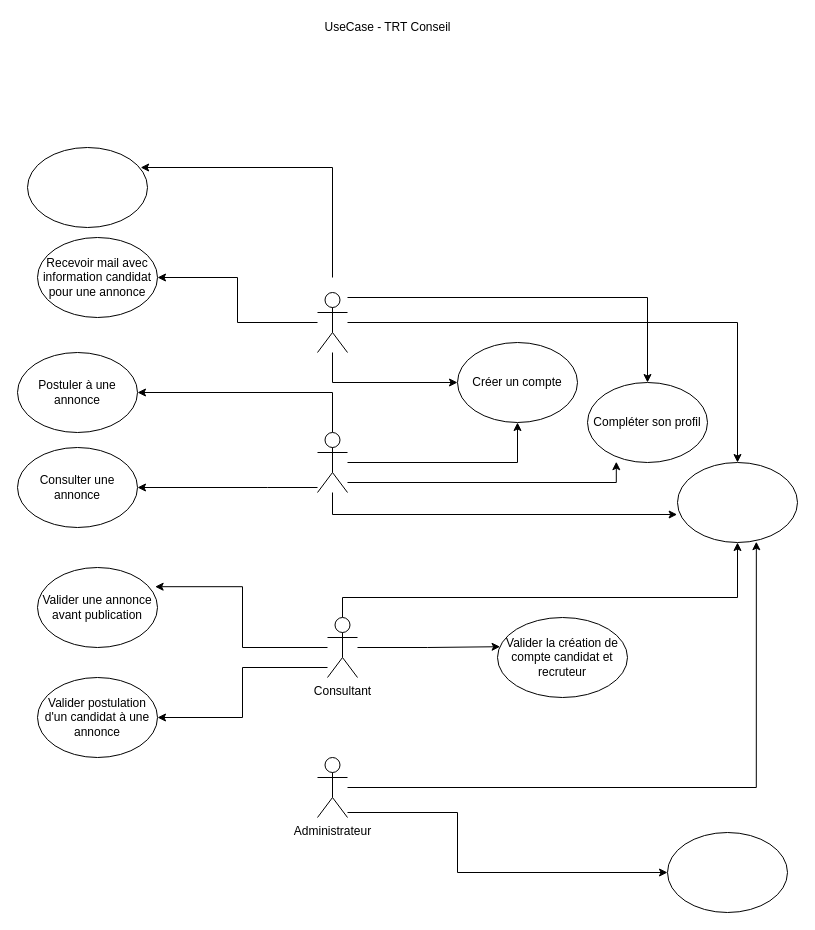
This 815x930 diagram has some shape labels left out. The centre of each missing label's shape, as x and y in pixels:
"Candidat" belongs at (x=332, y=462).
"Créer un consutant" belongs at (x=727, y=872).
"Publier une annonce" belongs at (x=87, y=187).
"Recruteur" belongs at (x=332, y=322).
"Se connecter" belongs at (x=737, y=502).
